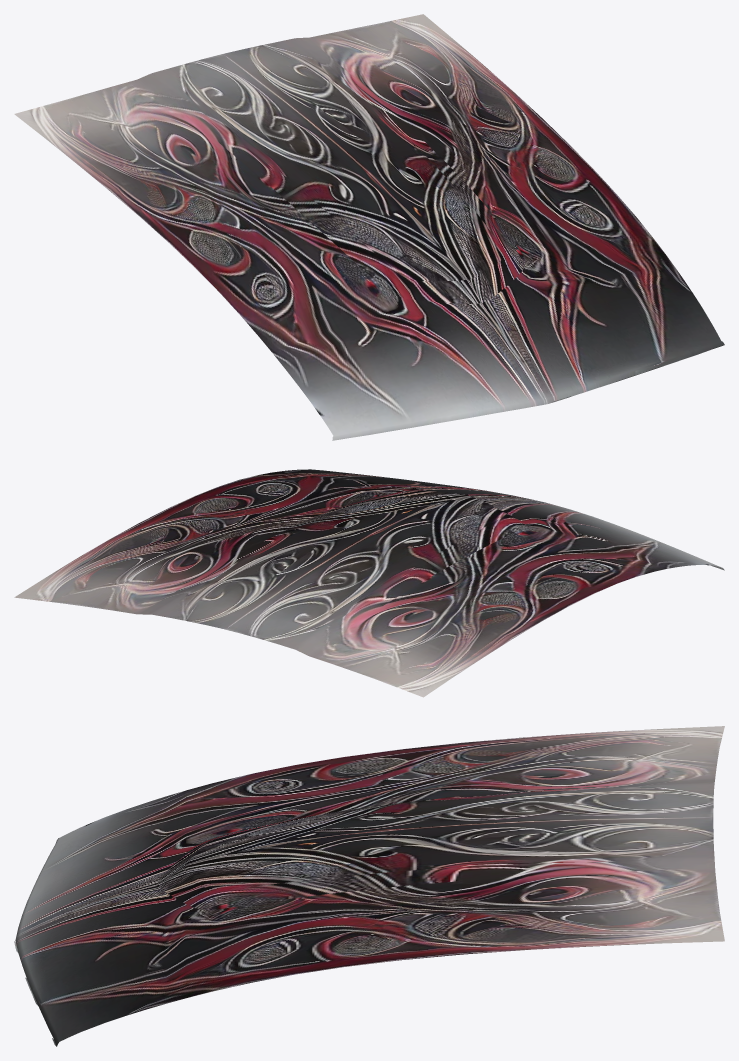
The model's file is Cofre.obj.
3 renders of one model, top to bottom at view 1: azimuth 30°, elevation 25°; view 2: azimuth 150°, elevation 25°; view 3: azimuth 270°, elevation 25°, orthographic. The views are drawn at different scales.
Visible parts, largest first — view 1: Cofre; view 2: Cofre; view 3: Cofre.
Part boxes in pixels (<box>): Cofre: <box>14,14,724,440</box>; Cofre: <box>14,469,724,697</box>; Cofre: <box>14,726,724,1046</box>.
Bounding box in the file's own units: 3.16 × 0.8581 × 4.41.
